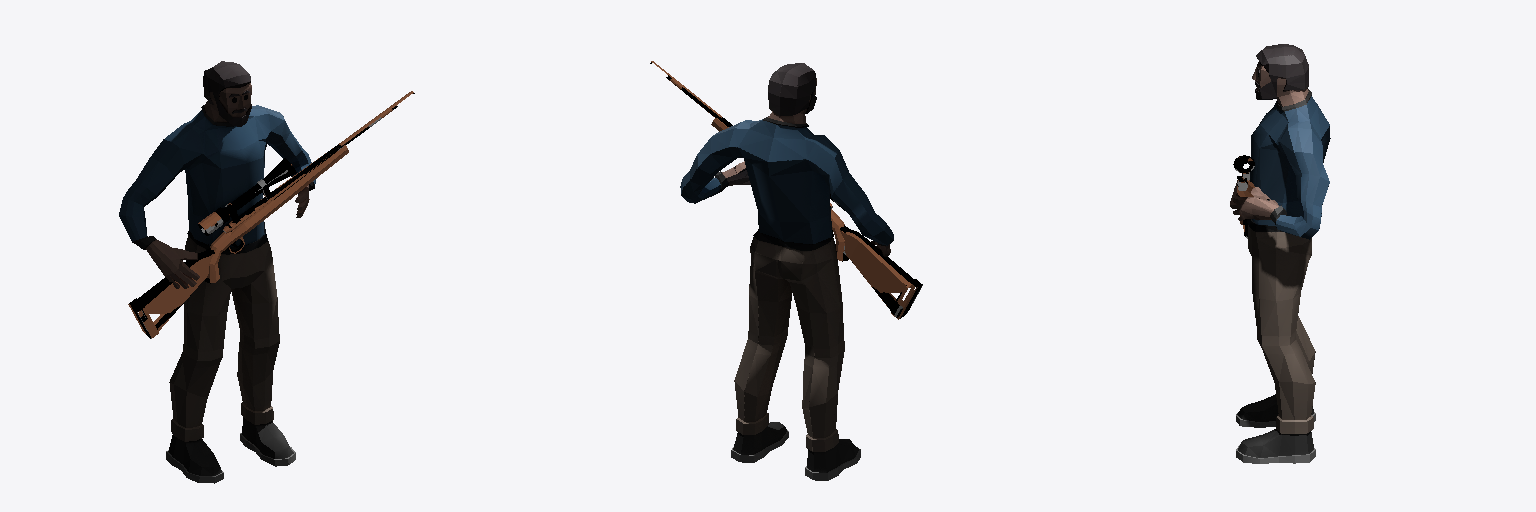
3 views of the same model, side by side, from view 1: azimuth 30°, elevation 25°; view 2: azimuth 150°, elevation 25°; view 3: azimuth 270°, elevation 25° (orthographic).
Visible parts, largest first — view 1: lowPolyCharacterFace_EXP_Mesh, Sniper_01_Cube.001; view 2: lowPolyCharacterFace_EXP_Mesh, Sniper_01_Cube.001; view 3: lowPolyCharacterFace_EXP_Mesh, Sniper_01_Cube.001.
Part boxes in pixels (bbox=[...]): lowPolyCharacterFace_EXP_Mesh: bbox=[119, 61, 316, 483]; Sniper_01_Cube.001: bbox=[128, 91, 414, 338]; lowPolyCharacterFace_EXP_Mesh: bbox=[680, 63, 893, 480]; Sniper_01_Cube.001: bbox=[650, 61, 922, 319]; lowPolyCharacterFace_EXP_Mesh: bbox=[1230, 44, 1330, 463]; Sniper_01_Cube.001: bbox=[1233, 155, 1254, 238].
Bounding box in the file's own units: 1.36 × 1.84 × 0.43.
Materials: 13 (2 with a texture image).